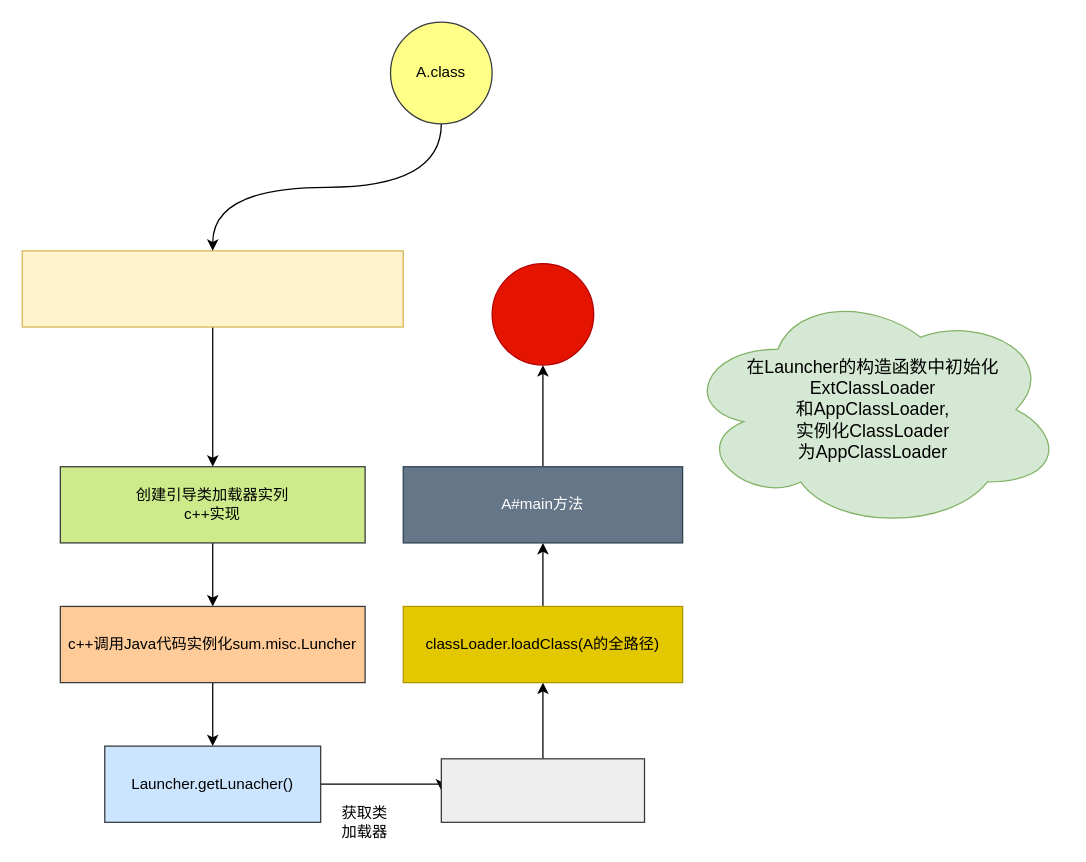
Image size: 1086x862. Some labels were removed from this diagram. Here are the shapes that lost their labels. From the top down, the centre of each, then its label:
At (x=212, y=288): "Win:java.exe调用jvm.dll Linux:java调用libjvm.so创建JVM ==>c++实现".
At (x=542, y=313): "JVM销毁".
At (x=542, y=790): "Lanucher.getClassLoader".
